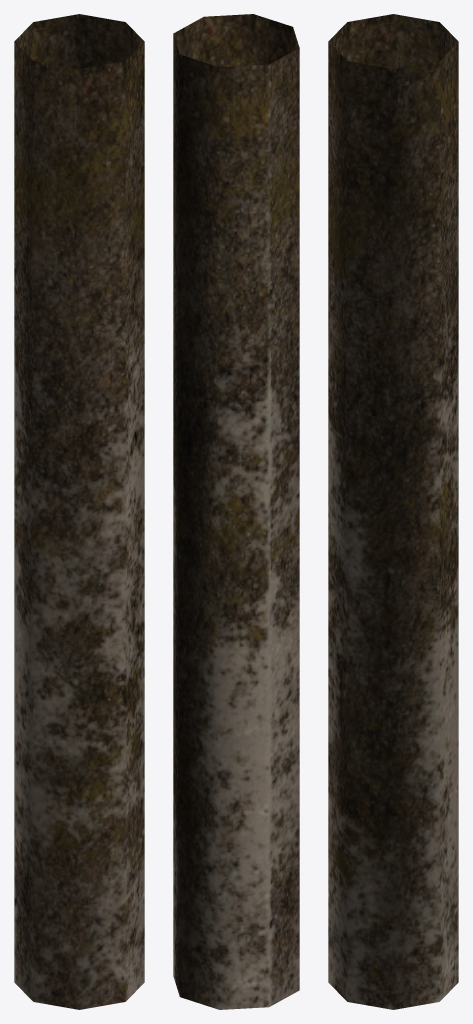
File: ExtPipe_02.FBX
3 views of the same model, side by side, from view 1: azimuth 90°, elevation 25°; view 2: azimuth 210°, elevation 25°; view 3: azimuth 270°, elevation 25° (orthographic).
Parts seen in each view (by area): view 1: ExtPipe_02; view 2: ExtPipe_02; view 3: ExtPipe_02.
Part boxes in pixels (x1,y1,x2,y2): ExtPipe_02: (14,14,144,1009); ExtPipe_02: (173,14,299,1009); ExtPipe_02: (328,14,458,1009).
Bounding box in the file's own units: 12 × 95.53 × 12.
